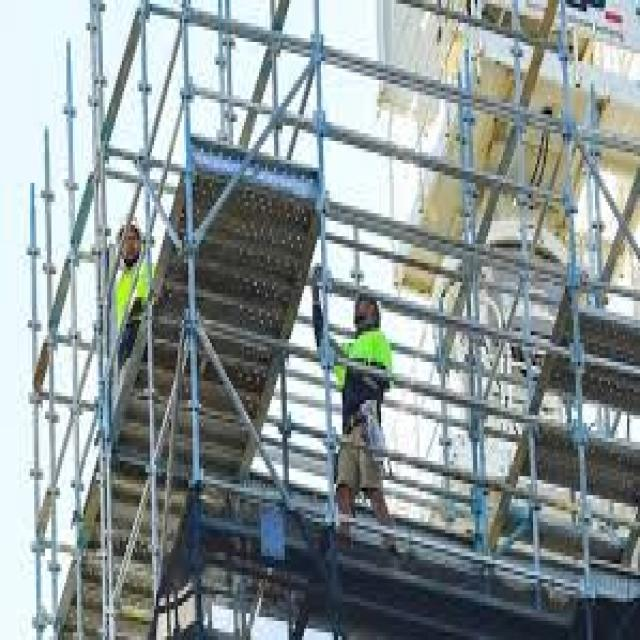Reflective-Jacket: (330, 320, 400, 415), (105, 252, 160, 346)
Safety-Helmet: (345, 271, 385, 316), (114, 213, 148, 263)
